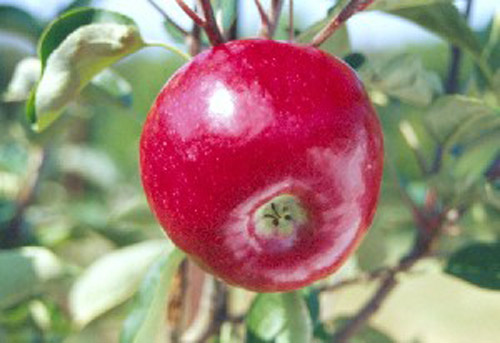apple: (136, 35, 389, 297)
